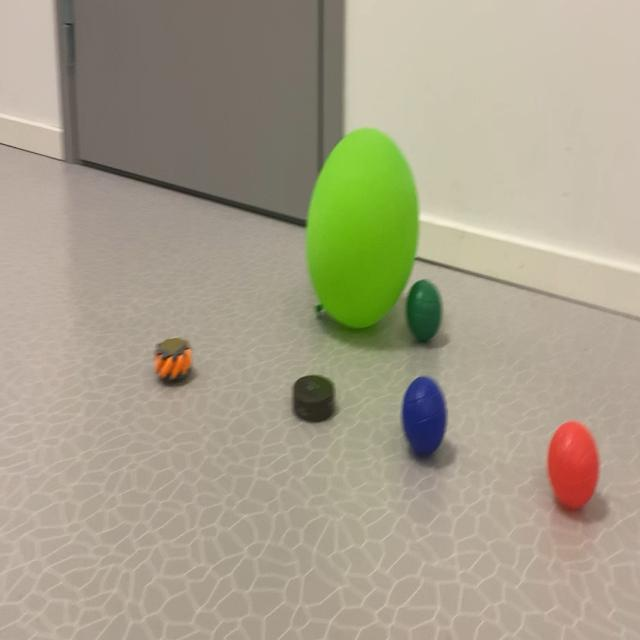blue ball: (396, 380, 450, 456)
green ball: (406, 284, 434, 344)
red ball: (546, 419, 595, 510)
